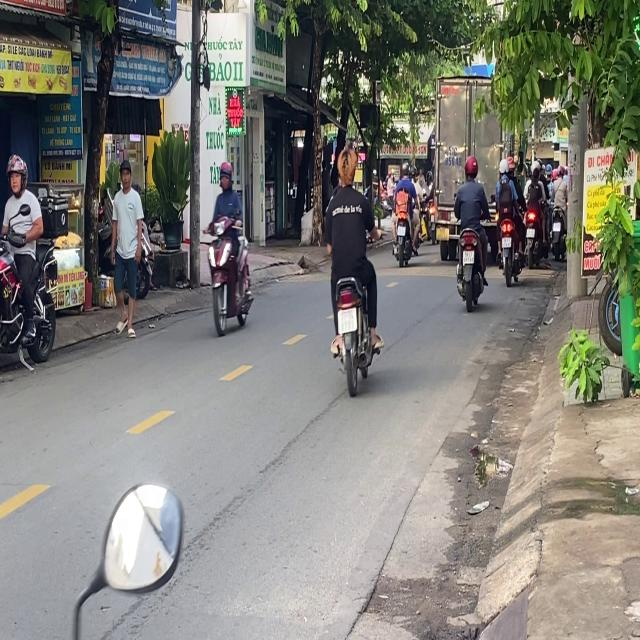helmet: (6, 154, 27, 192), (218, 160, 232, 188), (463, 155, 478, 179)
licenseplate: (323, 144, 383, 392), (0, 153, 59, 380), (204, 158, 254, 336), (452, 154, 490, 309)
motorcyclist: (336, 146, 358, 186)
nohelmet: (338, 307, 357, 332), (462, 250, 474, 263)
